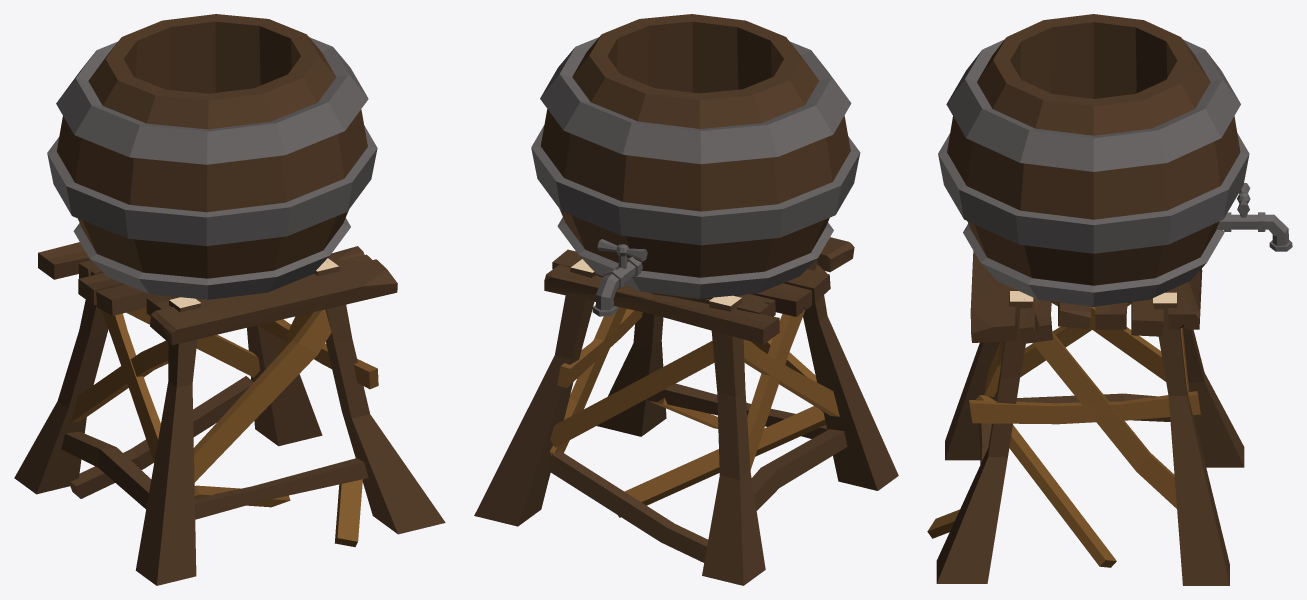
Rendered from RESERVE EAU 1.fbx.
3 renders of one model, left to right at view 1: azimuth 30°, elevation 25°; view 2: azimuth 150°, elevation 25°; view 3: azimuth 270°, elevation 25°, orthographic.
Visible parts, largest first — view 1: Cube.013; view 2: Cube.013; view 3: Cube.013.
Part boxes in pixels (x1,y1,x2,y2): Cube.013: (14, 14, 445, 585); Cube.013: (474, 14, 898, 585); Cube.013: (927, 14, 1292, 585).
Size of the model in its own units: 400 by 600 by 419.
